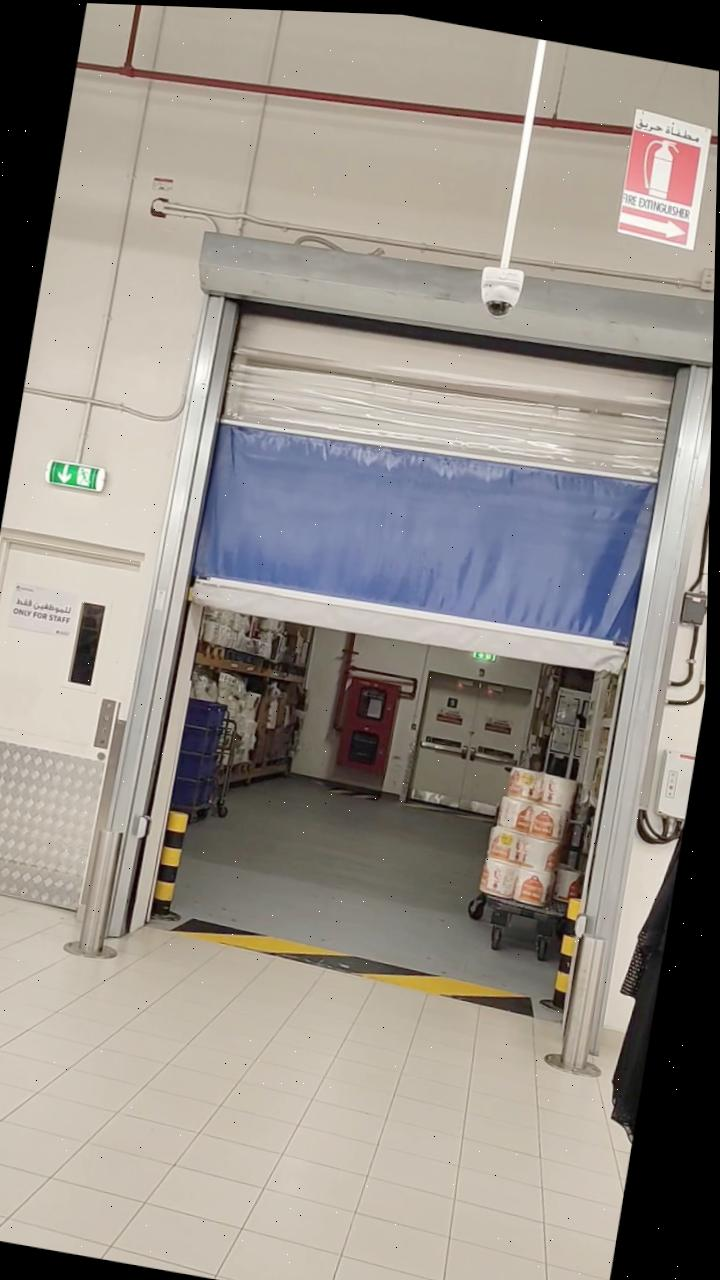Strip: (170, 908, 549, 1021)
